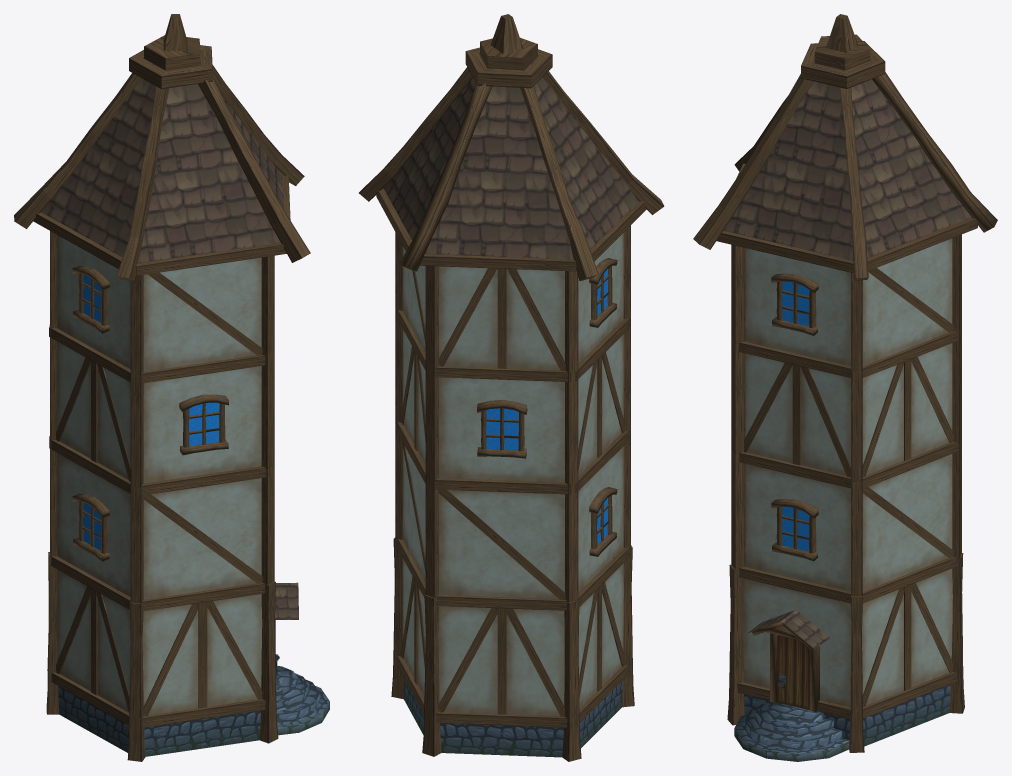
Rendered from windmill.fbx.
The picture shows the model from 3 angles, left to right: view 1: azimuth 30°, elevation 25°; view 2: azimuth 150°, elevation 25°; view 3: azimuth 270°, elevation 25°; orthographic projection.
Visible parts, largest first — view 1: WCorner1.048; view 2: WCorner1.048; view 3: WCorner1.048.
Part boxes in pixels (box(x1,y1,x2,y2)): WCorner1.048: box(14, 14, 329, 761); WCorner1.048: box(359, 14, 664, 761); WCorner1.048: box(693, 14, 997, 761).
Bounding box in the file's own units: 894 × 2260 × 910.
